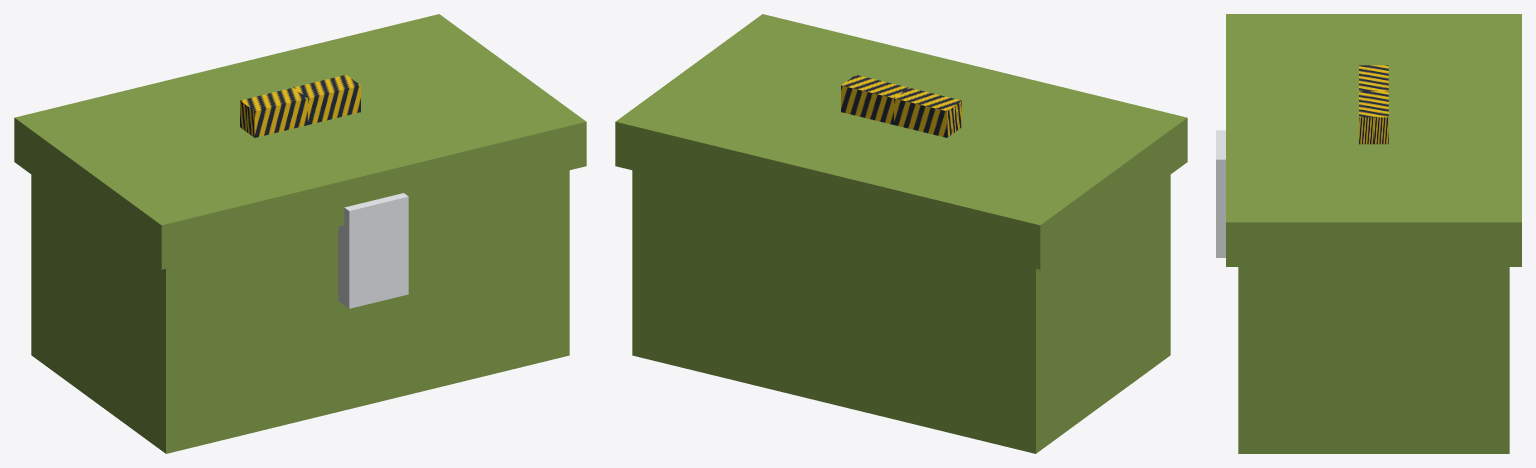
The model's file is ammo_box_military.glb.
3 renders of one model, left to right at view 1: azimuth 30°, elevation 25°; view 2: azimuth 150°, elevation 25°; view 3: azimuth 270°, elevation 25°, orthographic.
Parts seen in each view (by area): view 1: ammo_box_military; view 2: ammo_box_military; view 3: ammo_box_military.
Boxes of the visible parts, box(x1,y1,x2,y2) form: ammo_box_military: box(14, 14, 586, 453); ammo_box_military: box(615, 14, 1187, 453); ammo_box_military: box(1216, 14, 1521, 453).
Bounding box in the file's own units: 1 × 0.59 × 0.62.
Materials: 3 (1 with a texture image).
